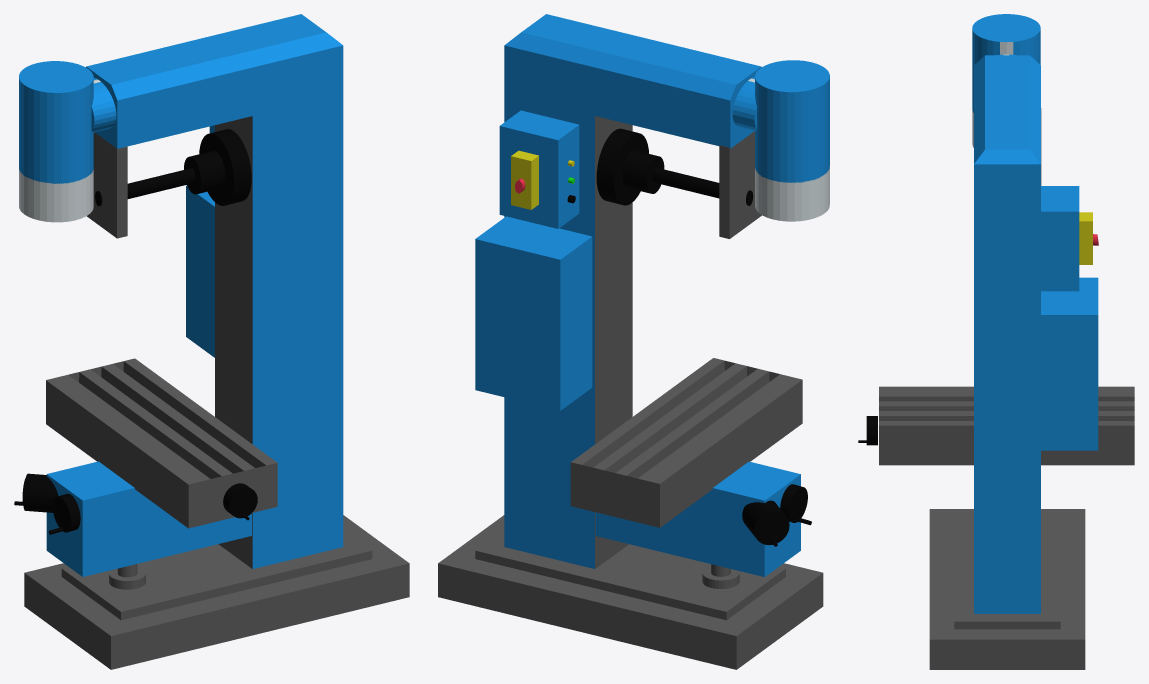
3 renders of one model, left to right at view 1: azimuth 30°, elevation 25°; view 2: azimuth 150°, elevation 25°; view 3: azimuth 270°, elevation 25°, orthographic. The views are drawn at different scales.
Visible parts, largest first — view 1: Cube; view 2: Cube; view 3: Cube.
Part boxes in pixels (x1=…): Cube: x1=14, y1=14, x2=409, y2=669; Cube: x1=438, y1=14, x2=829, y2=669; Cube: x1=858, y1=14, x2=1134, y2=669.
Bounding box in the file's own units: 2121 × 3339 × 1653.
